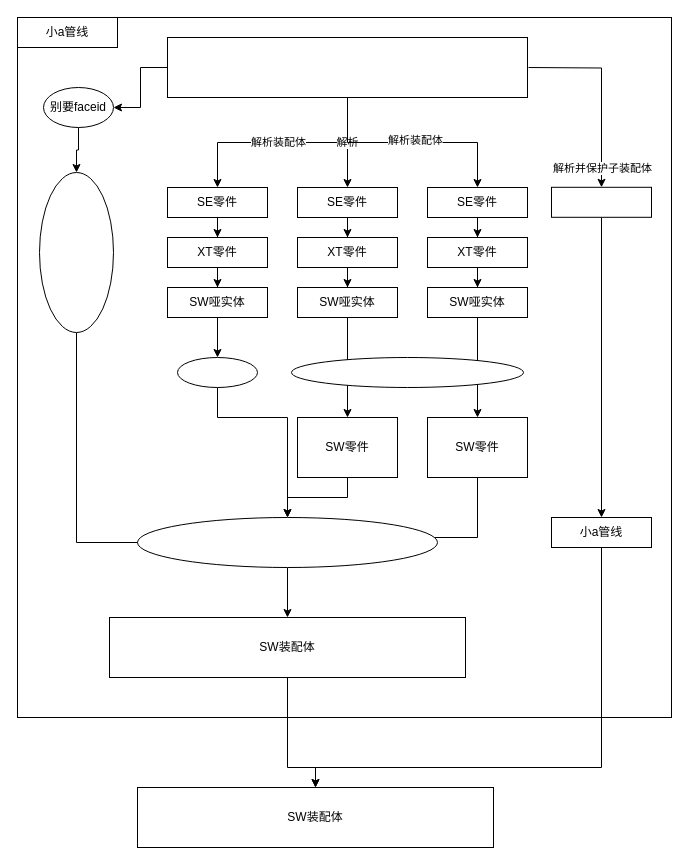
This 689x865 diagram has some shape labels left out. The centre of each missing label's shape, as x and y in pixels:
SE子装配体: (x=601, y=201)
SE模型装配: (x=347, y=67)
插入+局部矩阵+无关系的完全固定: (x=287, y=542)
特征识别和完全定义草图: (x=407, y=372)
特征识别失败: (x=217, y=372)
装配关系探针: (x=76, y=252)
